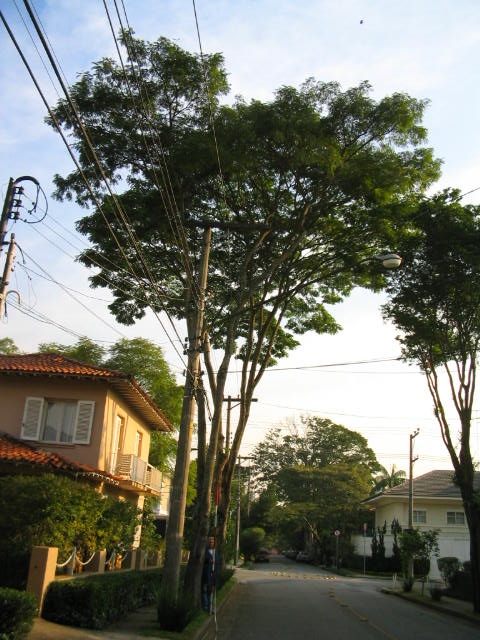crown: (52, 35, 437, 390), (381, 193, 478, 380)
stem: (441, 461, 478, 619), (179, 455, 212, 623)
stick: (207, 482, 225, 617)
tree: (48, 31, 438, 624), (378, 190, 480, 618)
